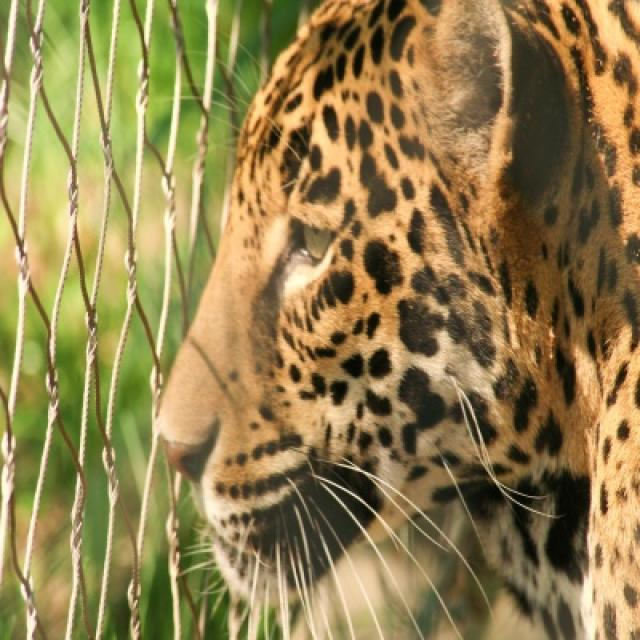Jaguar: (152, 0, 638, 638)
